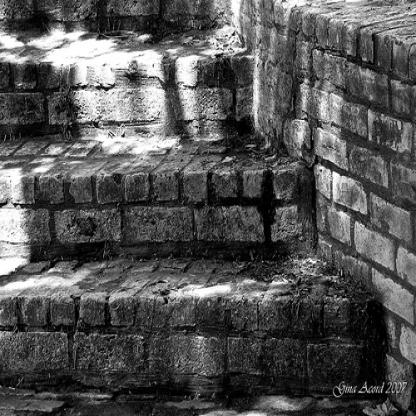stairs: (29, 33, 251, 414)
